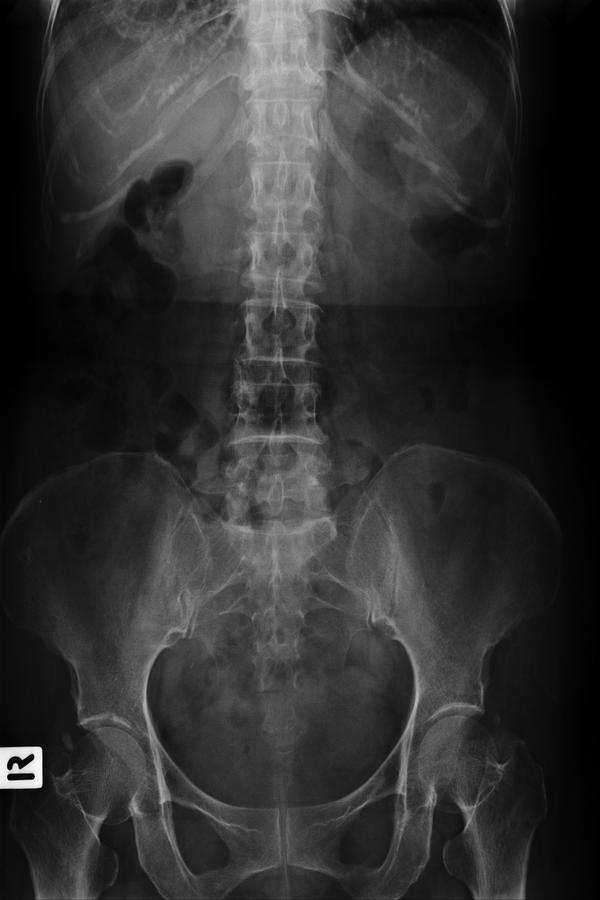lumbar scoliosis: (223, 9, 335, 524)
